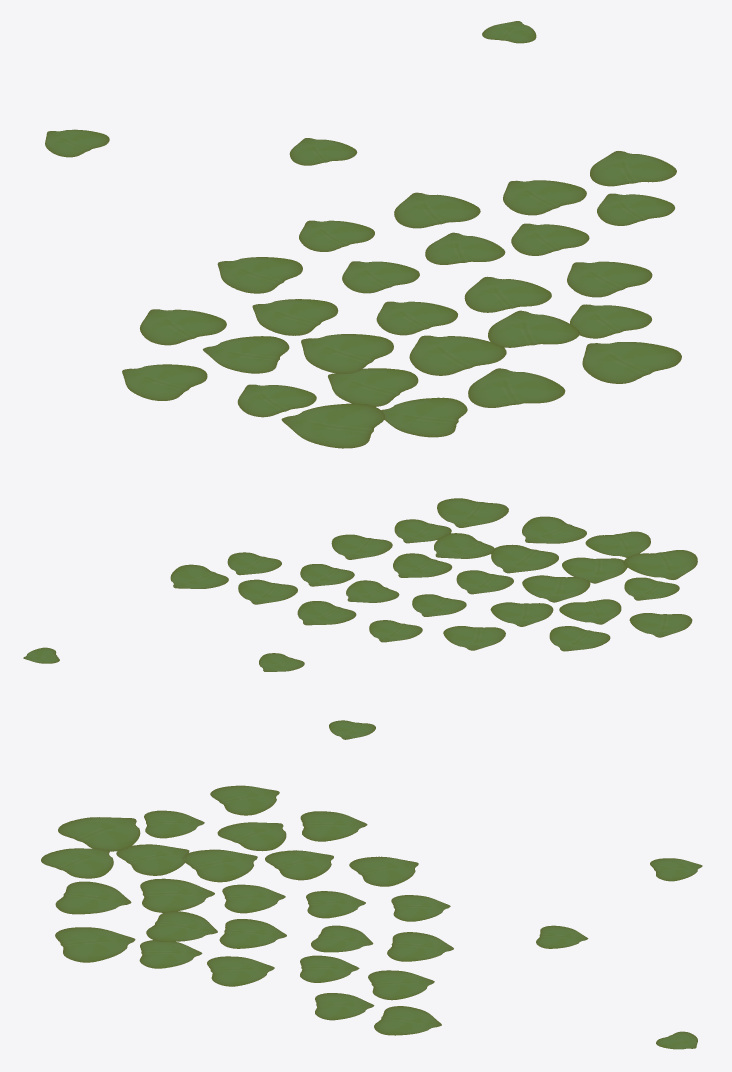
The model's file is LeafPlaneA.glb.
The picture shows the model from 3 angles, top to bottom: view 1: azimuth 30°, elevation 25°; view 2: azimuth 150°, elevation 25°; view 3: azimuth 270°, elevation 25°; orthographic projection. The views are drawn at different scales.
Parts seen in each view (by area): view 1: Plane.083; view 2: Plane.083; view 3: Plane.083.
Part boxes in pixels (bbox=[...]): Plane.083: bbox=[45, 21, 681, 448]; Plane.083: bbox=[23, 498, 697, 739]; Plane.083: bbox=[41, 785, 702, 1049].
Bounding box in the file's own units: 2.48 × 0 × 2.6.
Materials: 1 (1 with a texture image).
